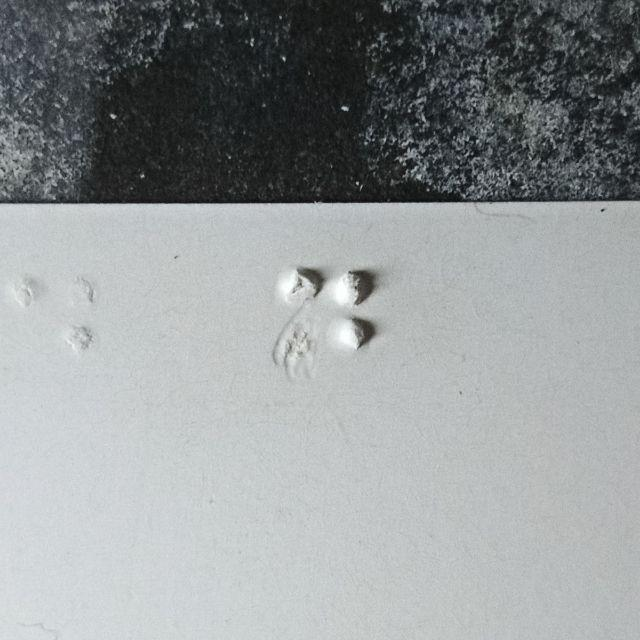d: (278, 267, 373, 405)
